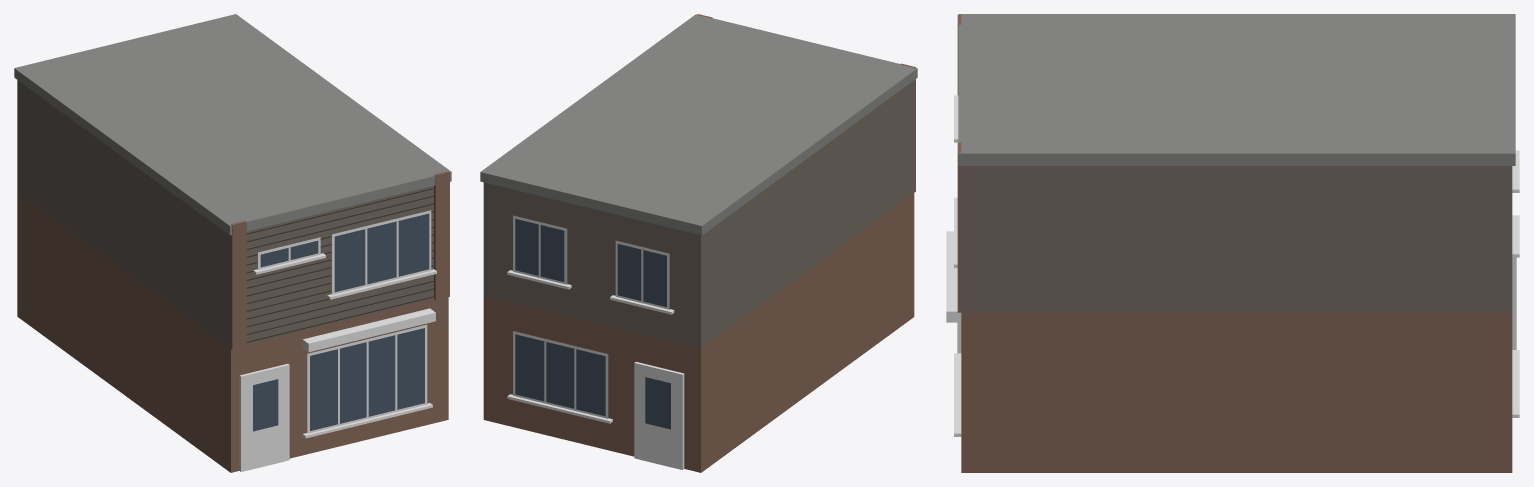
File: zo-rb-timber__timber__2__flat__long__solid__mirror.glb
3 renders of one model, left to right at view 1: azimuth 30°, elevation 25°; view 2: azimuth 150°, elevation 25°; view 3: azimuth 270°, elevation 25°, orthographic. The views are drawn at different scales.
Visible parts, largest first — view 1: zo-rb-timber__timber__2__flat__long__solid__mirror; view 2: zo-rb-timber__timber__2__flat__long__solid__mirror; view 3: zo-rb-timber__timber__2__flat__long__solid__mirror.
Boxes of the visible parts, x1,y1,x2,y2 form: zo-rb-timber__timber__2__flat__long__solid__mirror: (14, 14, 451, 472); zo-rb-timber__timber__2__flat__long__solid__mirror: (480, 14, 917, 472); zo-rb-timber__timber__2__flat__long__solid__mirror: (946, 14, 1519, 472).
Bounding box in the file's own units: 5.4 × 5.79 × 9.37.
